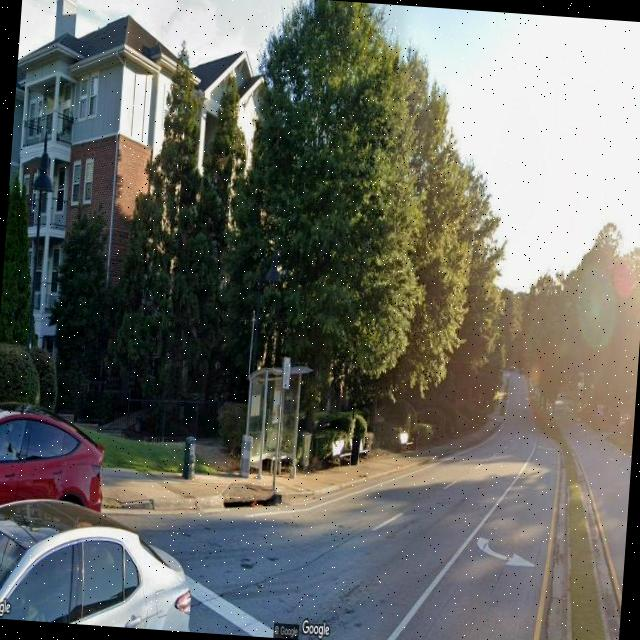seating: (264, 449, 290, 480), (329, 439, 352, 469), (348, 438, 369, 462), (396, 432, 414, 454)
shelter: (241, 366, 314, 486)
trash_can: (238, 434, 253, 478)
